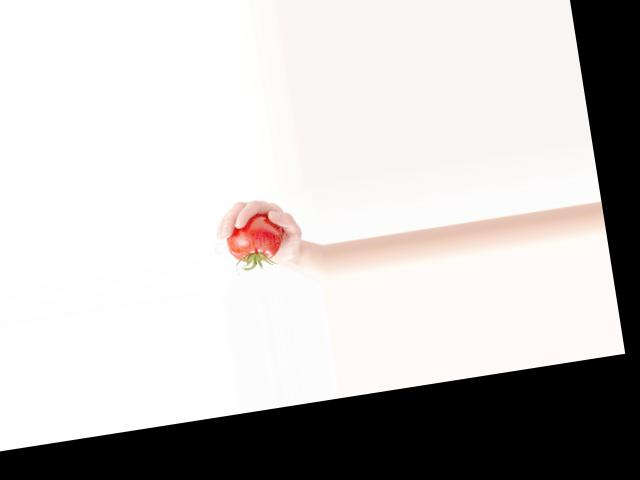tomato: (223, 211, 284, 266)
